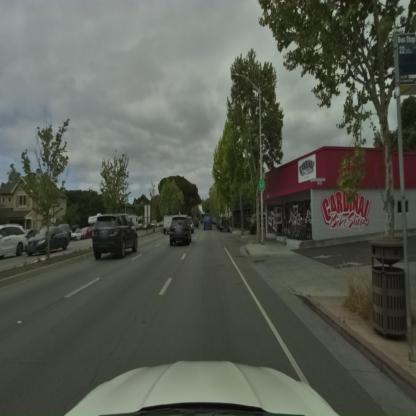car: (89, 214, 139, 260), (26, 225, 70, 258), (0, 226, 30, 260), (169, 215, 194, 246), (218, 209, 234, 235), (201, 210, 215, 235), (80, 228, 94, 239)
